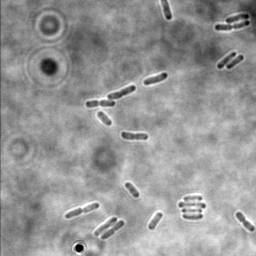Dividing: (63, 202, 100, 220), (100, 219, 126, 241), (92, 216, 118, 237), (106, 84, 137, 101), (234, 210, 255, 233), (214, 20, 251, 33), (119, 131, 149, 142), (84, 99, 116, 109)
Microcolony: (177, 193, 206, 221)
Rod: (142, 71, 168, 87), (215, 51, 236, 70), (226, 54, 245, 71), (158, 0, 173, 21), (123, 181, 140, 199), (147, 211, 163, 230), (95, 111, 113, 127)
